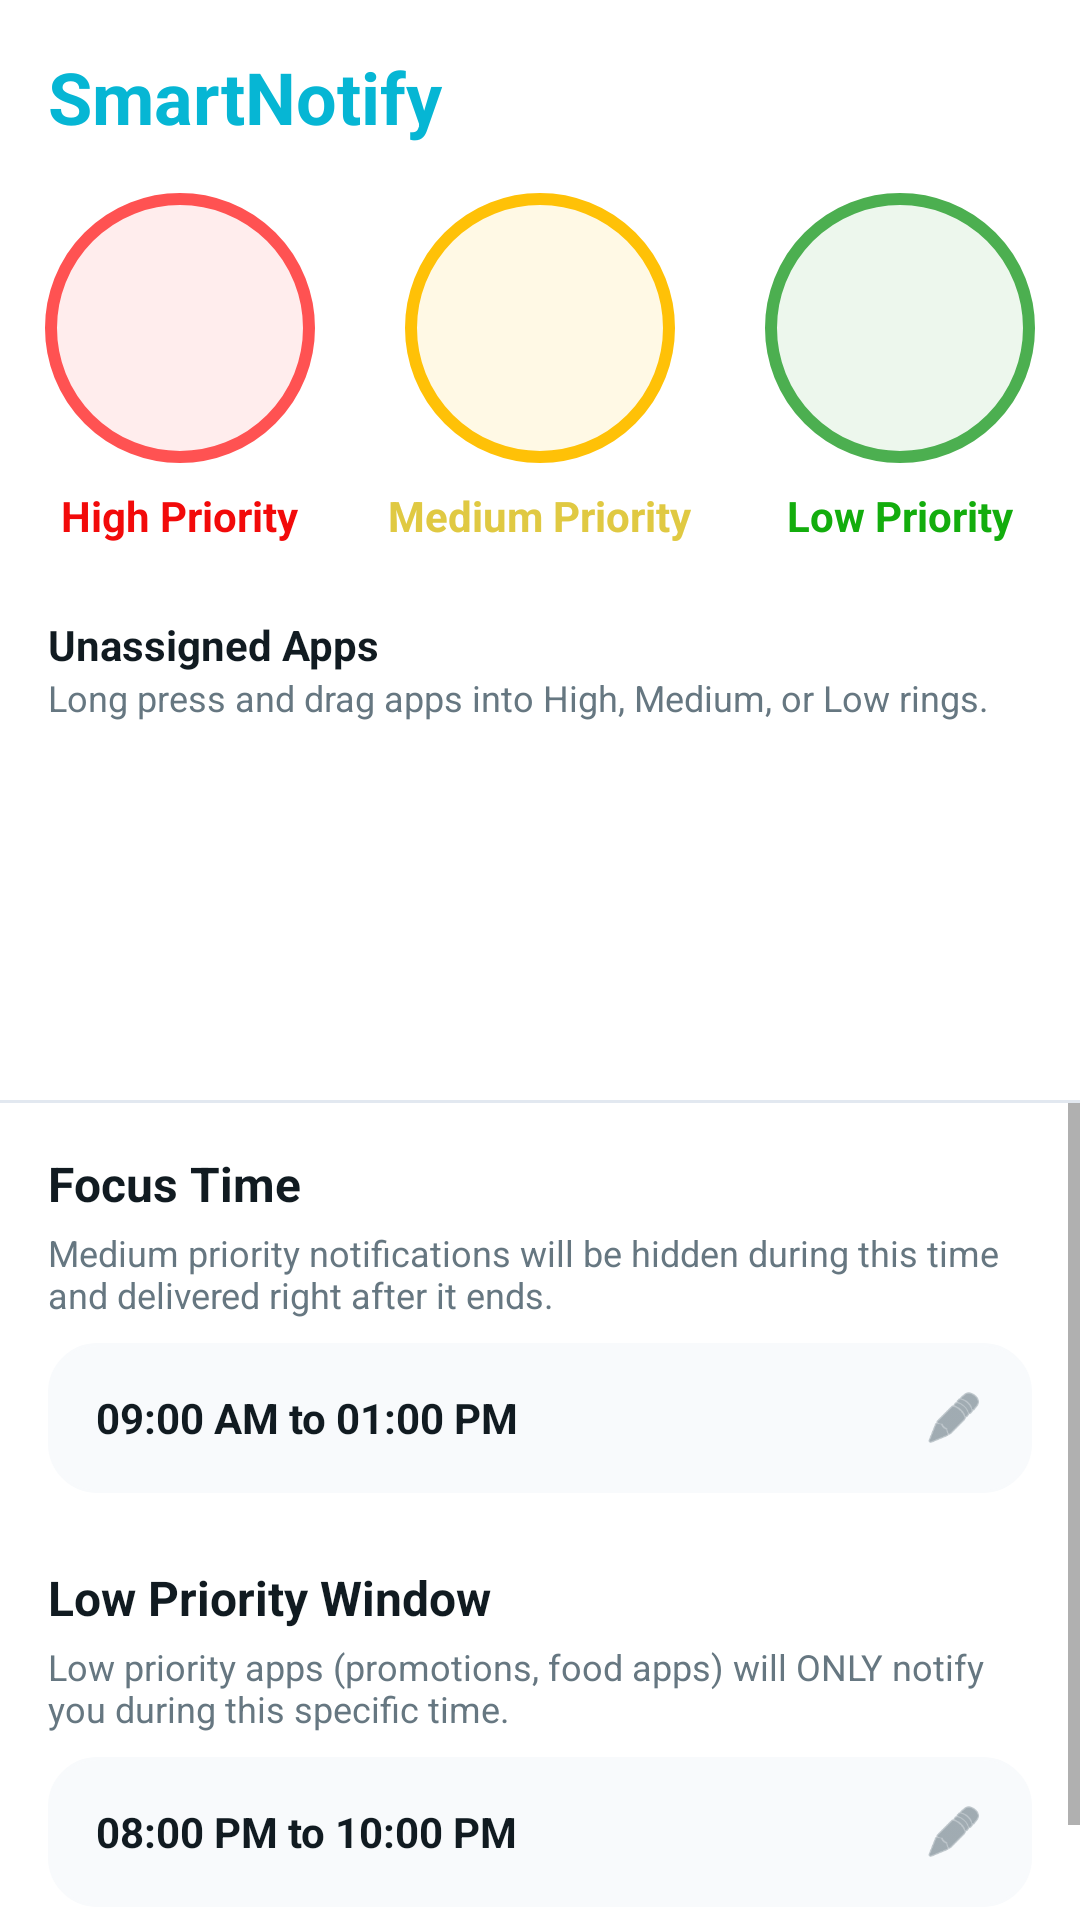

Icons on this 1080px×1920px Android screen, each with the point to tap as (x,y):
edit: (954,1417), (954,1831)
